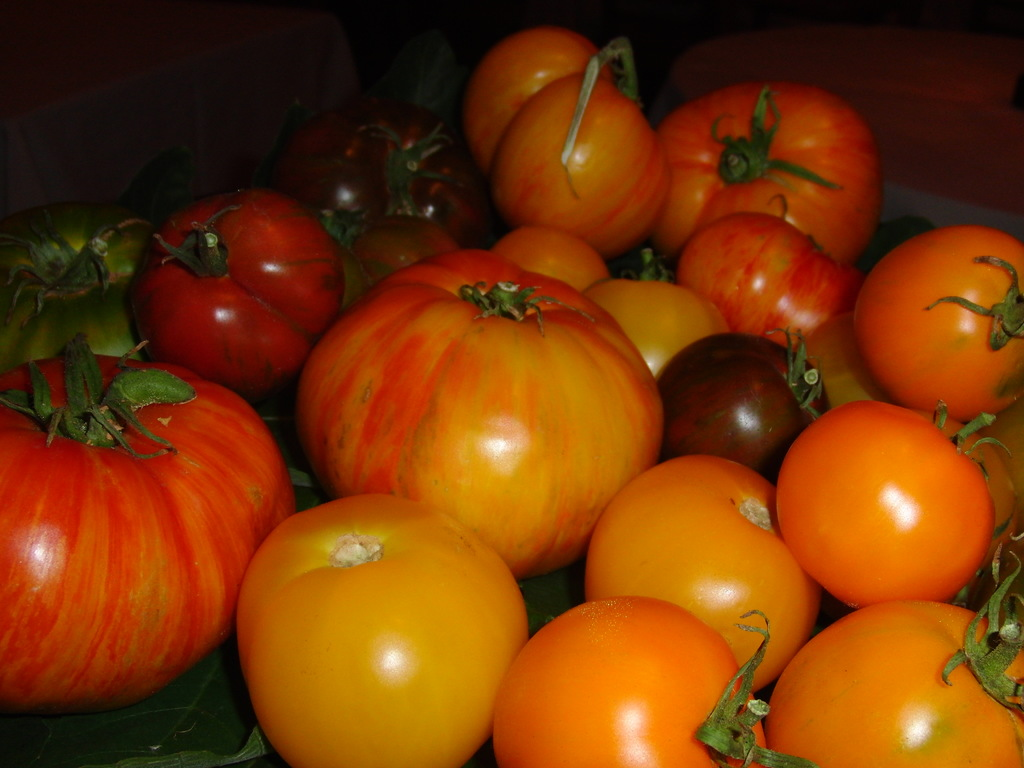Tomato: (0, 26, 1023, 767), (777, 398, 995, 613)
